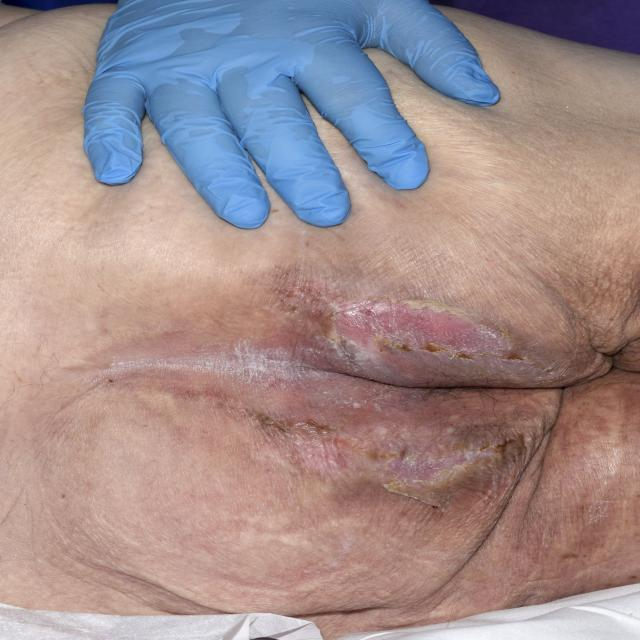wound: (177, 296, 568, 498)
